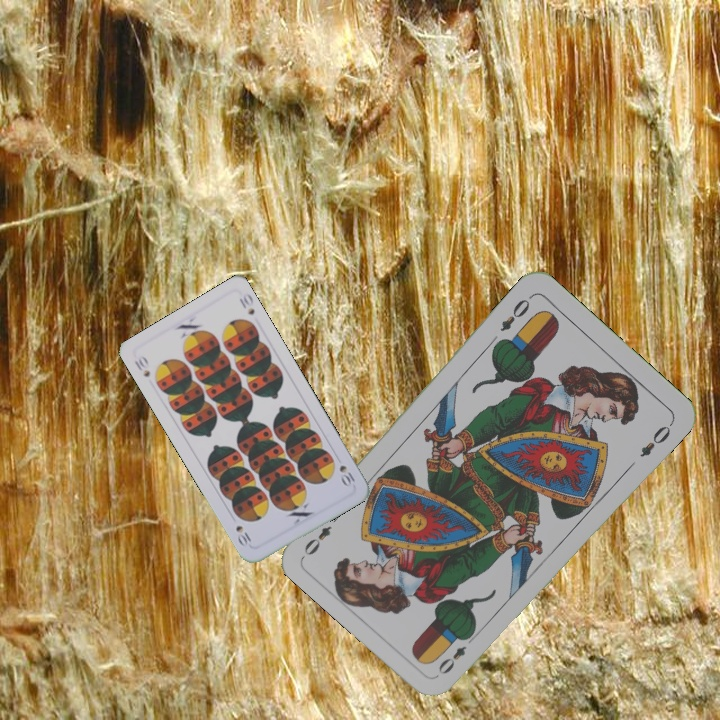EO: (433, 630, 478, 678), (496, 295, 533, 334)
S10: (335, 461, 358, 490), (130, 351, 153, 380)
